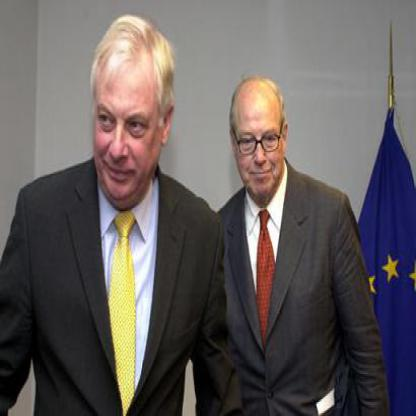face: (93, 35, 165, 206), (234, 79, 287, 203)
